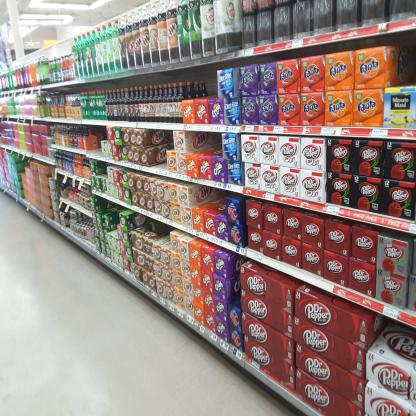Void: (377, 316, 409, 355), (388, 45, 416, 81), (140, 215, 172, 243), (187, 132, 219, 153), (147, 133, 165, 166), (229, 256, 240, 303)
